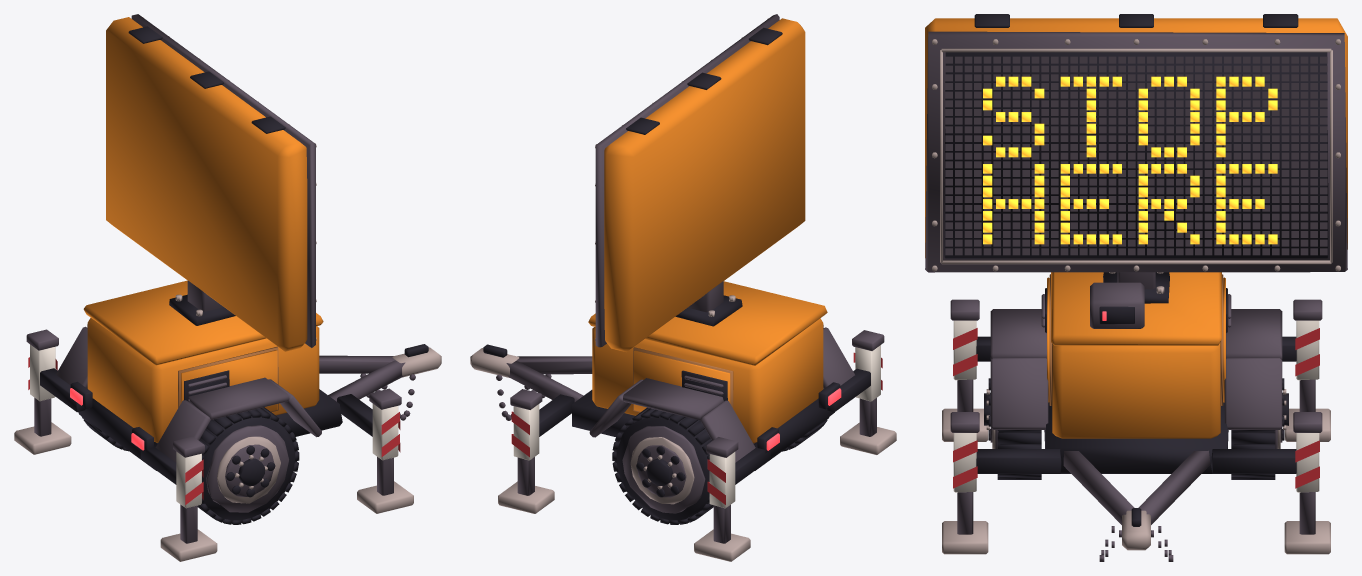
File: prop.stop-here-sign-trailer.lod1.glb
3 views of the same model, side by side, from view 1: azimuth 30°, elevation 25°; view 2: azimuth 150°, elevation 25°; view 3: azimuth 270°, elevation 25° (orthographic). The views are drawn at different scales.
Visible parts, largest first — view 1: object 2, body; view 2: object 2, body; view 3: object 2, body.
Boxes of the visible parts, x1,y1,x2,y2 form: object 2: (70,14,316,524); body: (14,280,441,561); object 2: (595,14,841,524); body: (470,281,896,561); object 2: (925,14,1347,479); body: (942,272,1330,561).
Size of the model in its own units: 2.88 by 3.2 by 2.64.
